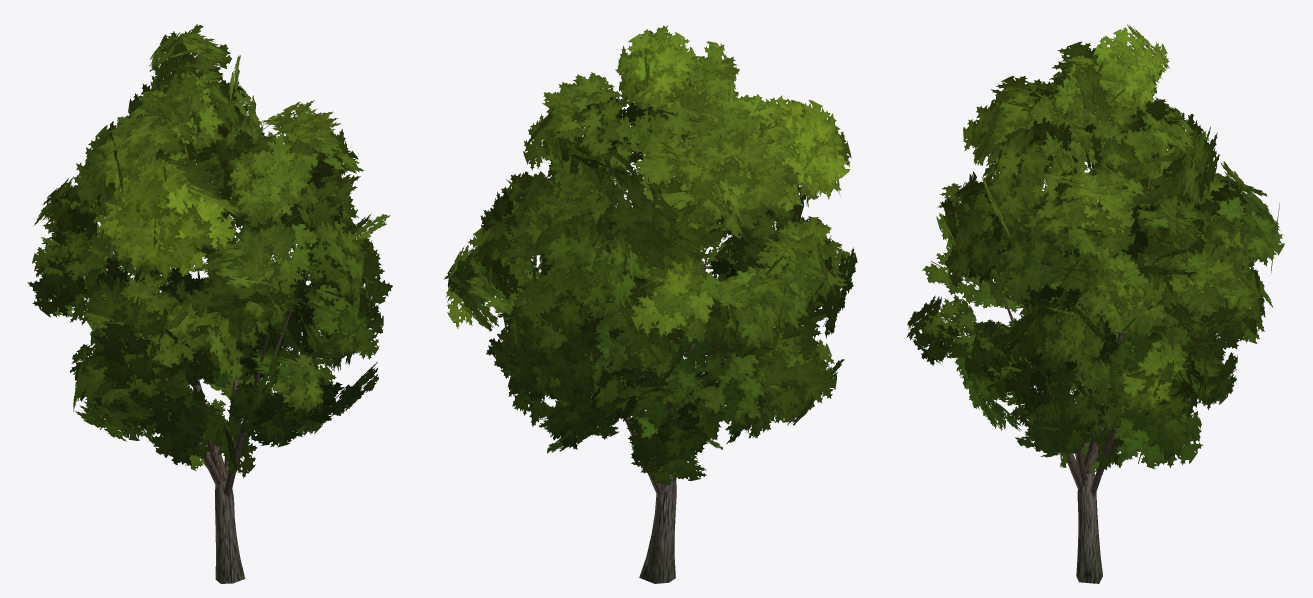
Rendered from maple-medium-lite.glb.
3 views of the same model, side by side, from view 1: azimuth 30°, elevation 25°; view 2: azimuth 150°, elevation 25°; view 3: azimuth 270°, elevation 25° (orthographic). The views are drawn at different scales.
Parts seen in each view (by area): view 1: Leaves, Bark; view 2: Leaves, Bark; view 3: Leaves, Bark.
Part boxes in pixels (x1,y1,x2,y2): Leaves: (27,24,392,478); Bark: (164,305,293,583); Leaves: (444,25,857,485); Bark: (584,254,721,583); Leaves: (906,24,1284,474); Bark: (1004,293,1124,583).
Size of the model in its own units: 6.48 by 9.81 by 6.46.
2 materials, 2 textured.
